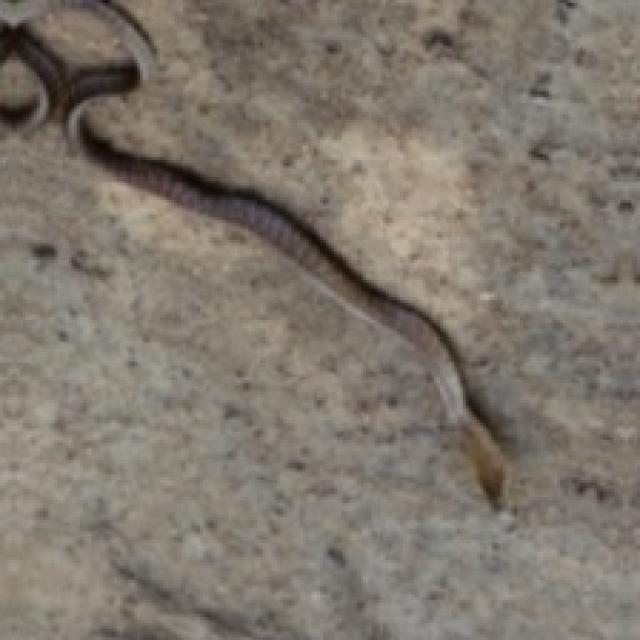philippine cobra: (0, 0, 506, 506)
